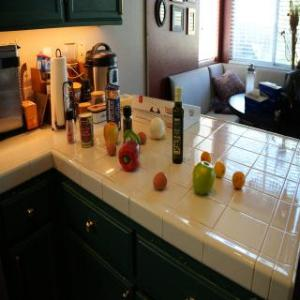bell_pepper: (120, 142, 140, 169), (122, 128, 138, 148)
egg: (152, 170, 167, 192), (138, 130, 146, 144), (106, 146, 113, 158)
onion: (150, 117, 164, 140)
